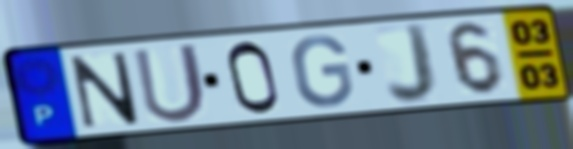0: (224, 38, 281, 116)
6: (444, 19, 508, 98)
G: (289, 33, 357, 110)
J: (384, 21, 440, 106)
N: (67, 50, 142, 131)
U: (129, 40, 210, 126)
